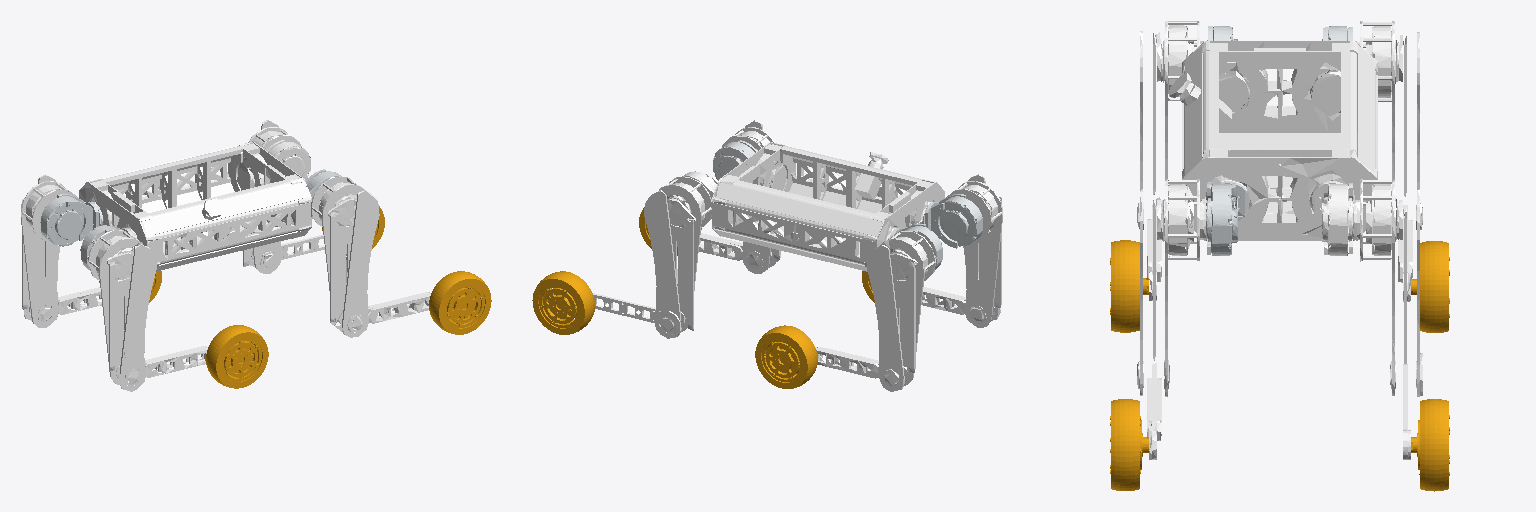
--- Render facts (derived) ---
Views: 3 orthographic renders of the robot side by side, from view 1: azimuth 30°, elevation 25°; view 2: azimuth 150°, elevation 25°; view 3: azimuth 270°, elevation 25°.
Model dog with 17 links and 16 joints (12 revolute, 4 continuous), rooted at body_link, posed every joint at zero.
Visible links, largest first — view 1: body_link, rf_link2, rb_link2, lb_link2, rf_link4, rb_link4, lb_link1, lf_link2, rf_link3, rb_link3, lf_link1, lb_link3 (+2 smaller); view 2: body_link, lf_link2, lb_link2, rb_link2, lb_link4, lf_link4, rb_link1, rf_link2, lb_link3, rf_link1, rb_link3, rf_link3 (+2 smaller); view 3: body_link, lf_link2, rf_link2, lb_link2, rb_link2, rf_link4, lf_link4, rb_link4, lb_link4, lf_link1, rf_link1, rf_link3 (+3 smaller).
Link boxes in pixels (x1,y1,x2,y2): body_link: [79, 141, 311, 271]; rf_link2: [312, 177, 379, 337]; rb_link2: [88, 230, 156, 391]; lb_link2: [21, 174, 77, 327]; rf_link4: [429, 271, 491, 334]; rb_link4: [206, 325, 268, 388]; lb_link1: [40, 194, 98, 246]; lf_link2: [243, 120, 301, 273]; rf_link3: [352, 292, 430, 323]; rb_link3: [145, 346, 208, 377]; lf_link1: [266, 140, 310, 180]; lb_link3: [58, 287, 101, 314]; body_link: [712, 142, 944, 271]; lf_link2: [644, 177, 711, 338]; lb_link2: [867, 231, 935, 391]; rb_link2: [946, 174, 1002, 327]; lb_link4: [755, 325, 817, 388]; lf_link4: [532, 271, 594, 334]; rb_link1: [925, 194, 982, 248]; rf_link2: [722, 120, 780, 273]; lb_link3: [815, 347, 894, 378]; rf_link1: [713, 140, 757, 180]; rb_link3: [922, 287, 965, 314]; rf_link3: [699, 233, 760, 262]; body_link: [1169, 41, 1377, 240]; lf_link2: [1354, 179, 1422, 396]; rf_link2: [1137, 179, 1205, 396]; lb_link2: [1355, 21, 1422, 229]; rb_link2: [1137, 21, 1204, 229]; rf_link4: [1110, 399, 1148, 490]; lf_link4: [1411, 399, 1449, 491]; rb_link4: [1110, 240, 1148, 332]; lb_link4: [1411, 241, 1449, 332]; lf_link1: [1315, 181, 1353, 255]; rf_link1: [1206, 181, 1244, 255]; rf_link3: [1147, 363, 1161, 459].
Bounding box of the posed robot: 0.8464 × 0.4576 × 0.3715 m (x, y, z).
17 mesh visuals loaded from 17 distinct referenced files (17 binary STL).

robot.urdf — dog:
<?xml version="1.0" encoding="utf-8"?>
<!-- This URDF was automatically created by SolidWorks to URDF Exporter! Originally created by Stephen Brawner ([email redacted]) 
     Commit Version: 1.6.0-4-g7f85cfe  Build Version: 1.6.7995.38578
     For more information, please see http://wiki.ros.org/sw_urdf_exporter -->
<robot
  name="dog">

    <ros2_control name="dog_system" type="system">

          <hardware>
              <plugin>mujoco_ros2_control/MujocoSystem</plugin>
          </hardware>

          <joint name="lf_joint1">
              <!-- <command_interface name="position" />
              <command_interface name="velocity" /> -->
              <command_interface name="effort" />
              <state_interface name="position" />
              <state_interface name="velocity" />
              <state_interface name="effort" />
          </joint>

          <joint name="lf_joint2">
              <!-- <command_interface name="position" />
              <command_interface name="velocity" /> -->
              <command_interface name="effort" />
              <state_interface name="position" />
              <state_interface name="velocity" />
              <state_interface name="effort" />
          </joint>

          <joint name="lf_joint3">
              <!-- <command_interface name="position" />
              <command_interface name="velocity" /> -->
              <command_interface name="effort" />
              <state_interface name="position" />
              <state_interface name="velocity" />
              <state_interface name="effort" />
          </joint>

          <joint name="lf_joint4">
              <!-- <command_interface name="position" />
              <command_interface name="velocity" /> -->
              <command_interface name="effort" />
              <state_interface name="position" />
              <state_interface name="velocity" />
              <state_interface name="effort" />
          </joint>

          <joint name="rf_joint1">
              <!-- <command_interface name="position" />
              <command_interface name="velocity" /> -->
              <command_interface name="effort" />
              <state_interface name="position" />
              <state_interface name="velocity" />
              <state_interface name="effort" />
          </joint>

          <joint name="rf_joint2">
              <!-- <command_interface name="position" />
              <command_interface name="velocity" /> -->
              <command_interface name="effort" />
              <state_interface name="position" />
              <state_interface name="velocity" />
              <state_interface name="effort" />
          </joint>

          <joint name="rf_joint3">
              <!-- <command_interface name="position" />
              <command_interface name="velocity" /> -->
              <command_interface name="effort" />
              <state_interface name="position" />
              <state_interface name="velocity" />
              <state_interface name="effort" />
          </joint>

          <joint name="rf_joint4">
              <!-- <command_interface name="position" />
              <command_interface name="velocity" /> -->
              <command_interface name="effort" />
              <state_interface name="position" />
              <state_interface name="velocity" />
              <state_interface name="effort" />
          </joint>

          <joint name="lb_joint1">
              <!-- <command_interface name="position" />
              <command_interface name="velocity" /> -->
              <command_interface name="effort" />
              <state_interface name="position" />
              <state_interface name="velocity" />
              <state_interface name="effort" />
          </joint>

          <joint name="lb_joint2">
              <!-- <command_interface name="position" />
              <command_interface name="velocity" /> -->
              <command_interface name="effort" />
              <state_interface name="position" />
              <state_interface name="velocity" />
              <state_interface name="effort" />
          </joint>

          <joint name="lb_joint3">
              <!-- <command_interface name="position" />
              <command_interface name="velocity" /> -->
              <command_interface name="effort" />
              <state_interface name="position" />
              <state_interface name="velocity" />
              <state_interface name="effort" />
          </joint>

          <joint name="lb_joint4">
              <!-- <command_interface name="position" />
              <command_interface name="velocity" /> -->
              <command_interface name="effort" />
              <state_interface name="position" />
              <state_interface name="velocity" />
              <state_interface name="effort" />
          </joint>          

          <joint name="rb_joint1">
              <!-- <command_interface name="position" />
              <command_interface name="velocity" /> -->
              <command_interface name="effort" />
              <state_interface name="position" />
              <state_interface name="velocity" />
              <state_interface name="effort" />
          </joint>

          <joint name="rb_joint2">
              <!-- <command_interface name="position" />
              <command_interface name="velocity" /> -->
              <command_interface name="effort" />
              <state_interface name="position" />
              <state_interface name="velocity" />
              <state_interface name="effort" />
          </joint>

          <joint name="rb_joint3">
              <!-- <command_interface name="position" />
              <command_interface name="velocity" /> -->
              <command_interface name="effort" />
              <state_interface name="position" />
              <state_interface name="velocity" />
              <state_interface name="effort" />
          </joint>

          <joint name="rb_joint4">
              <!-- <command_interface name="position" />
              <command_interface name="velocity" /> -->
              <command_interface name="effort" />
              <state_interface name="position" />
              <state_interface name="velocity" />
              <state_interface name="effort" />
          </joint>

      </ros2_control>

      
  <link
    name="body_link">
    <inertial>
      <origin
        xyz="-0.0013088 -0.0021597 0.057384"
        rpy="0 0 0" />
      <mass
        value="3.1484" />
      <inertia
        ixx="0.0061326"
        ixy="-5.3318E-07"
        ixz="5.6918E-06"
        iyy="0.011662"
        iyz="1.8421E-05"
        izz="0.012462" />
    </inertial>
    <visual>
      <origin
        xyz="0 0 0"
        rpy="0 0 0" />
      <geometry>
        <mesh
          filename="package://dog/model/body_link.STL" />
      </geometry>
      <material
        name="">
        <color
          rgba="1 1 1 1" />
      </material>
    </visual>
    <collision>
      <origin
        xyz="0 0 0"
        rpy="0 0 0" />
      <geometry>
        <mesh
          filename="package://dog/model/body_link.STL" />
      </geometry>
    </collision>
  </link>
  <link
    name="lf_link1">
    <inertial>
      <origin
        xyz="0.00086233 0.0088226 0.044423"
        rpy="0 0 0" />
      <mass
        value="0.30526" />
      <inertia
        ixx="0.00013624"
        ixy="-2.5173E-08"
        ixz="-6.3132E-06"
        iyy="0.00029454"
        iyz="2.3905E-08"
        izz="0.00018611" />
    </inertial>
    <visual>
      <origin
        xyz="0 0 0"
        rpy="0 0 0" />
      <geometry>
        <mesh
          filename="package://dog/model/lf_link1.STL" />
      </geometry>
      <material
        name="">
        <color
          rgba="1 1 1 1" />
      </material>
    </visual>
    <collision>
      <origin
        xyz="0 0 0"
        rpy="0 0 0" />
      <geometry>
        <mesh
          filename="package://dog/model/lf_link1.STL" />
      </geometry>
    </collision>
  </link>
  <joint
    name="lf_joint1"
    type="revolute">
    <origin
      xyz="0.1916 0.069987 0.061999"
      rpy="0 1.5708 0" />
    <parent
      link="body_link" />
    <child
      link="lf_link1" />
    <axis
      xyz="0 0 1" />
    <limit
      lower="-3"
      upper="3"
      effort="20"
      velocity="16" />
  </joint>
  <link
    name="lf_link2">
    <inertial>
      <origin
        xyz="0.0641608072634881 -0.000213553947429029 0.0509564436912867"
        rpy="0 0 0" />
      <mass
        value="0.687935058013005" />
      <inertia
        ixx="0.000317590386612217"
        ixy="-9.76394662000511E-05"
        ixz="8.0003594791554E-08"
        iyy="0.00198715365354993"
        iyz="2.8040517395904E-08"
        izz="0.0022786341424536" />
    </inertial>
    <visual>
      <origin
        xyz="0 0 0"
        rpy="0 0 0" />
      <geometry>
        <mesh
          filename="package://dog/model/lf_link2.STL" />
      </geometry>
      <material
        name="">
        <color
          rgba="1 1 1 1" />
      </material>
    </visual>
    <collision>
      <origin
        xyz="0 0 0"
        rpy="0 0 0" />
      <geometry>
        <mesh
          filename="package://dog/model/lf_link2.STL" />
      </geometry>
    </collision>
  </link>
  <joint
    name="lf_joint2"
    type="revolute">
    <origin
      xyz="0 0.029313 0.060013"
      rpy="-1.5708 0.0 0" />
    <parent
      link="lf_link1" />
    <child
      link="lf_link2" />
    <axis
      xyz="0 0 1" />
    <limit
      lower="-3"
      upper="3"
      effort="20"
      velocity="16" />
  </joint>
  <link
    name="lf_link3">
    <inertial>
      <origin
        xyz="0.115134661134155 5.41233724504764E-15 -0.0232451722203951"
        rpy="0 0 0" />
      <mass
        value="0.0715412570113012" />
      <inertia
        ixx="7.16038100959811E-06"
        ixy="1.80841534238793E-19"
        ixz="-8.96042910486513E-22"
        iyy="0.000396266502546904"
        iyz="-2.5977821807318E-21"
        izz="0.000403009789814217" />
    </inertial>
    <visual>
      <origin
        xyz="0 0 0"
        rpy="0 0 0" />
      <geometry>
        <mesh
          filename="package://dog/model/lf_link3.STL" />
      </geometry>
      <material
        name="">
        <color
          rgba="1 1 1 1" />
      </material>
    </visual>
    <collision>
      <origin
        xyz="0 0 0"
        rpy="0 0 0" />
      <geometry>
        <mesh
          filename="package://dog/model/lf_link3.STL" />
      </geometry>
    </collision>
  </link>
  <joint
    name="lf_joint3"
    type="revolute">
    <origin
      xyz="0.23001 0 0.0935"
      rpy="0 0 -1.570796325" />
    <parent
      link="lf_link2" />
    <child
      link="lf_link3" />
    <axis
      xyz="0 0 1" />
    <limit
      lower="-3"
      upper="3"
      effort="20"
      velocity="16" />
  </joint>
  <link
    name="lf_link4">
    <inertial>
      <origin
        xyz="-8.33838005240284E-07 -2.32183281578813E-06 -0.0137203038152375"
        rpy="0 0 0" />
      <mass
        value="0.392667576355367" />
      <inertia
        ixx="0.000427673279684473"
        ixy="-1.66712102324832E-10"
        ixz="-7.83183418259463E-09"
        iyy="0.000427672875183246"
        iyz="-2.18931520058451E-08"
        izz="0.000777284873782633" />
    </inertial>
    <visual>
      <origin
        xyz="0 0 0"
        rpy="0 0 0" />
      <geometry>
        <mesh
          filename="package://dog/model/lf_link4.STL" />
      </geometry>
      <material
        name="">
        <color
          rgba="0.941176470588235 0.674509803921569 0.117647058823529 1" />
      </material>
    </visual>
    <collision>
      <origin
        xyz="0 0 0"
        rpy="0 0 0" />
      <geometry>
        <mesh
          filename="package://dog/model/lf_link4.STL" />
      </geometry>
    </collision>
  </link>
  <joint
    name="lf_joint4"
    type="continuous">
    <origin
      xyz="0.225 0 0.028"
      rpy="0 0 0" />
    <parent
      link="lf_link3" />
    <child
      link="lf_link4" />
    <axis
      xyz="0 0 1" />
  </joint>
  <link
    name="lb_link1">
    <inertial>
      <origin
        xyz="-0.000925123690143068 -0.00878237479301745 0.0445470021451263"
        rpy="0 0 0" />
      <mass
        value="0.305258513351169" />
      <inertia
        ixx="0.000136281253269724"
        ixy="2.58521394761113E-06"
        ixz="6.31297933943952E-06"
        iyy="0.000294496916566844"
        iyz="-6.473990898193E-08"
        izz="0.000186109185435469" />
    </inertial>
    <visual>
      <origin
        xyz="0 0 0"
        rpy="0 0 0" />
      <geometry>
        <mesh
          filename="package://dog/model/lb_link1.STL" />
      </geometry>
      <material
        name="">
        <color
          rgba="0.898039215686275 0.917647058823529 0.929411764705882 1" />
      </material>
    </visual>
    <collision>
      <origin
        xyz="0 0 0"
        rpy="0 0 0" />
      <geometry>
        <mesh
          filename="package://dog/model/lb_link1.STL" />
      </geometry>
    </collision>
  </link>
  <joint
    name="lb_joint1"
    type="revolute">
    <origin
      xyz="-0.1916 0.070013 0.061999"
      rpy="3.1416 1.5708 0" />
    <parent
      link="body_link" />
    <child
      link="lb_link1" />
    <axis
      xyz="0 0 1" />
    <limit
      lower="-3"
      upper="3"
      effort="20"
      velocity="16" />
  </joint>
  <link
    name="lb_link2">
    <inertial>
      <origin
        xyz="0.0622918006217383 -0.000224917744286179 0.0506213294063391"
        rpy="0 0 0" />
      <mass
        value="0.682338727568128" />
      <inertia
        ixx="0.000315574203624537"
        ixy="-9.67077846440039E-05"
        ixz="3.09385643315563E-08"
        iyy="0.00198560386964907"
        iyz="-3.30548671246196E-08"
        izz="0.00227507943112639" />
    </inertial>
    <visual>
      <origin
        xyz="0 0 0"
        rpy="0 0 0" />
      <geometry>
        <mesh
          filename="package://dog/model/lb_link2.STL" />
      </geometry>
      <material
        name="">
        <color
          rgba="1 1 1 1" />
      </material>
    </visual>
    <collision>
      <origin
        xyz="0 0 0"
        rpy="0 0 0" />
      <geometry>
        <mesh
          filename="package://dog/model/lb_link2.STL" />
      </geometry>
    </collision>
  </link>
  <joint
    name="lb_joint2"
    type="revolute">
    <origin
      xyz="-0.00047387 -0.029283 0.059987"
      rpy="1.5708 0.0 0.0" />
    <parent
      link="lb_link1" />
    <child
      link="lb_link2" />
    <axis
      xyz="0 0 1" />
    <limit
      lower="-3"
      upper="3"
      effort="20"
      velocity="16" />
  </joint>
  <link
    name="lb_link3">
    <inertial>
      <origin
        xyz="0.112998107353804 -1.99285032920216E-13 -0.0233570602524557"
        rpy="0 0 0" />
      <mass
        value="0.127541149243291" />
      <inertia
        ixx="1.2488110467128E-05"
        ixy="1.36246138950449E-15"
        ixz="-1.00217452304004E-19"
        iyy="0.000516959786484769"
        iyz="5.25247343008731E-22"
        izz="0.000528884581268784" />
    </inertial>
    <visual>
      <origin
        xyz="0 0 0"
        rpy="0 0 0" />
      <geometry>
        <mesh
          filename="package://dog/model/lb_link3.STL" />
      </geometry>
      <material
        name="">
        <color
          rgba="1 1 1 1" />
      </material>
    </visual>
    <collision>
      <origin
        xyz="0 0 0"
        rpy="0 0 0" />
      <geometry>
        <mesh
          filename="package://dog/model/lb_link3.STL" />
      </geometry>
    </collision>
  </link>
  <joint
    name="lb_joint3"
    type="revolute">
    <origin
      xyz="0.23001 1.0811E-05 0.0935"
      rpy="0 0 -1.570796325" />
    <parent
      link="lb_link2" />
    <child
      link="lb_link3" />
    <axis
      xyz="0 0 1" />
    <limit
      lower="-3"
      upper="3"
      effort="20"
      velocity="16" />
  </joint>
  <link
    name="lb_link4">
    <inertial>
      <origin
        xyz="1.20293801159077E-06 -1.88941982487423E-06 -0.0136284016701863"
        rpy="0 0 0" />
      <mass
        value="0.432627590726504" />
      <inertia
        ixx="0.00046007201510914"
        ixy="2.3740721997431E-10"
        ixz="1.25243064310545E-08"
        iyy="0.000460071794040396"
        iyz="-1.95870126671016E-08"
        izz="0.000837967081504535" />
    </inertial>
    <visual>
      <origin
        xyz="0 0 0"
        rpy="0 0 0" />
      <geometry>
        <mesh
          filename="package://dog/model/lb_link4.STL" />
      </geometry>
      <material
        name="">
        <color
          rgba="0.941176470588235 0.674509803921569 0.117647058823529 1" />
      </material>
    </visual>
    <collision>
      <origin
        xyz="0 0 0"
        rpy="0 0 0" />
      <geometry>
        <mesh
          filename="package://dog/model/lb_link4.STL" />
      </geometry>
    </collision>
  </link>
  <joint
    name="lb_joint4"
    type="continuous">
    <origin
      xyz="0.225 0 0.028"
      rpy="0 0 0" />
    <parent
      link="lb_link3" />
    <child
      link="lb_link4" />
    <axis
      xyz="0 0 1" />
  </joint>
  <link
    name="rf_link1">
    <inertial>
      <origin
        xyz="-0.000782753636641487 -0.00879617351706156 0.0445470017446512"
        rpy="0 0 0" />
      <mass
        value="0.305258520879218" />
      <inertia
        ixx="0.000136239016447643"
        ixy="2.53952144735988E-08"
        ixz="6.3132157394484E-06"
        iyy="0.000294539128219851"
        iyz="3.73658658400529E-08"
        izz="0.000186109181361629" />
    </inertial>
    <visual>
      <origin
        xyz="0 0 0"
        rpy="0 0 0" />
      <geometry>
        <mesh
          filename="package://dog/model/rf_link1.STL" />
      </geometry>
      <material
        name="">
        <color
          rgba="0.898039215686275 0.917647058823529 0.929411764705882 1" />
      </material>
    </visual>
    <collision>
      <origin
        xyz="0 0 0"
        rpy="0 0 0" />
      <geometry>
        <mesh
          filename="package://dog/model/rf_link1.STL" />
      </geometry>
    </collision>
  </link>
  <joint
    name="rf_joint1"
    type="revolute">
    <origin
      xyz="0.1916 -0.070013 0.061999"
      rpy="0 1.5708 0" />
    <parent
      link="body_link" />
    <child
      link="rf_link1" />
    <axis
      xyz="0 0 1" />
    <limit
      lower="-3"
      upper="3"
      effort="20"
      velocity="16" />
  </joint>
  <link
    name="rf_link2">
    <inertial>
      <origin
        xyz="0.0624596798661314 0.000179393203615097 0.0506213295164145"
        rpy="0 0 0" />
      <mass
        value="0.682338731946651" />
      <inertia
        ixx="0.000315805866800134"
        ixy="9.77824407383041E-05"
        ixz="8.08975807843855E-08"
        iyy="0.00198537218399162"
        iyz="3.32365289944369E-08"
        izz="0.00227507940810801" />
    </inertial>
    <visual>
      <origin
        xyz="0 0 0"
        rpy="0 0 0" />
      <geometry>
        <mesh
          filename="package://dog/model/rf_link2.STL" />
      </geometry>
      <material
        name="">
        <color
          rgba="1 1 1 1" />
      </material>
    </visual>
    <collision>
      <origin
        xyz="0 0 0"
        rpy="0 0 0" />
      <geometry>
        <mesh
          filename="package://dog/model/rf_link2.STL" />
      </geometry>
    </collision>
  </link>
  <joint
    name="rf_joint2"
    type="revolute">
    <origin
      xyz="0 -0.029287 0.059987"
      rpy="1.5708 0.0 0" />
    <parent
      link="rf_link1" />
    <child
      link="rf_link2" />
    <axis
      xyz="0 0 1" />
    <limit
      lower="-3"
      upper="3"
      effort="20"
      velocity="16" />
  </joint>
  <link
    name="rf_link3">
    <inertial>
      <origin
        xyz="0.113977852210488 6.0507154842071E-15 -0.0233570602524556"
        rpy="0 0 0" />
      <mass
        value="0.127541149243291" />
      <inertia
        ixx="1.24881104671281E-05"
        ixy="-5.79285832627216E-18"
        ixz="-4.28157943455723E-20"
        iyy="0.000516959786484769"
        iyz="-3.61083627662893E-21"
        izz="0.000528884581268784" />
    </inertial>
    <visual>
      <origin
        xyz="0 0 0"
        rpy="0 0 0" />
      <geometry>
        <mesh
          filename="package://dog/model/rf_link3.STL" />
      </geometry>
      <material
        name="">
        <color
          rgba="1 1 1 1" />
      </material>
    </visual>
    <collision>
      <origin
        xyz="0 0 0"
        rpy="0 0 0" />
      <geometry>
        <mesh
          filename="package://dog/model/rf_link3.STL" />
      </geometry>
    </collision>
  </link>
  <joint
    name="rf_joint3"
    type="revolute">
    <origin
      xyz="0.22999 1.0192E-05 0.0935"
      rpy="0 0 1.570796325" />
    <parent
      link="rf_link2" />
    <child
      link="rf_link3" />
    <axis
      xyz="0 0 1" />
    <limit
      lower="-3"
      upper="3"
      effort="20"
      velocity="16" />
  </joint>
  <link
    name="rf_link4">
    <inertial>
      <origin
        xyz="2.17473220906483E-06 5.36337152023947E-07 -0.0136284014745879"
        rpy="0 0 0" />
      <mass
        value="0.432627569922017" />
      <inertia
        ixx="0.000460071691408482"
        ixy="-1.22108710086107E-10"
        ixz="2.25643101366847E-08"
        iyy="0.000460072155161622"
        iyz="5.6099007528121E-09"
        izz="0.00083796708140874" />
    </inertial>
    <visual>
      <origin
        xyz="0 0 0"
        rpy="0 0 0" />
      <geometry>
        <mesh
          filename="package://dog/model/rf_link4.STL" />
      </geometry>
      <material
        name="">
        <color
          rgba="0.941176470588235 0.674509803921569 0.117647058823529 1" />
      </material>
    </visual>
    <collision>
      <origin
        xyz="0 0 0"
        rpy="0 0 0" />
      <geometry>
        <mesh
          filename="package://dog/model/rf_link4.STL" />
      </geometry>
    </collision>
  </link>
  <joint
    name="rf_joint4"
    type="continuous">
    <origin
      xyz="0.225 0 0.028"
      rpy="0 0 0" />
    <parent
      link="rf_link3" />
    <child
      link="rf_link4" />
    <axis
      xyz="0 0 1" />
  </joint>
  <link
    name="rb_link1">
    <inertial>
      <origin
        xyz="0.000471305086336471 0.00883904276524998 0.0444224277378842"
        rpy="0 0 0" />
      <mass
        value="0.305258497916776" />
      <inertia
        ixx="0.000136553367571207"
        ixy="-7.04693404954443E-06"
        ixz="-6.30800958436009E-06"
        iyy="0.000294224844619598"
        iyz="-2.56429770415964E-07"
        izz="0.000186109191983999" />
    </inertial>
    <visual>
      <origin
        xyz="0 0 0"
        rpy="0 0 0" />
      <geometry>
        <mesh
          filename="package://dog/model/rb_link1.STL" />
      </geometry>
      <material
        name="">
        <color
          rgba="0.898039215686275 0.917647058823529 0.929411764705882 1" />
      </material>
    </visual>
    <collision>
      <origin
        xyz="0 0 0"
        rpy="0 0 0" />
      <geometry>
        <mesh
          filename="package://dog/model/rb_link1.STL" />
      </geometry>
    </collision>
  </link>
  <joint
    name="rb_joint1"
    type="revolute">
    <origin
      xyz="-0.1916 -0.07 0.062"
      rpy="3.1416 1.5708 0" />
    <parent
      link="body_link" />
    <child
      link="rb_link1" />
    <axis
      xyz="0 0 1" />
    <limit
      lower="-3"
      upper="3"
      effort="20"
      velocity="16" />
  </joint>
  <link
    name="rb_link2">
    <inertial>
      <origin
        xyz="0.0622012514705095 0.000257699386625065 0.0506213296568732"
        rpy="0 0 0" />
      <mass
        value="0.682338712671127" />
      <inertia
        ixx="0.000315501454602171"
        ixy="9.7373797528944E-05"
        ixz="8.16375350809813E-08"
        iyy="0.0019856766347927"
        iyz="3.29915770339144E-08"
        izz="0.00227507944798916" />
    </inertial>
    <visual>
      <origin
        xyz="0 0 0"
        rpy="0 0 0" />
      <geometry>
        <mesh
          filename="package://dog/model/rb_link2.STL" />
      </geometry>
      <material
        name="">
        <color
          rgba="1 1 1 1" />
      </material>
    </visual>
    <collision>
      <origin
        xyz="0 0 0"
        rpy="0 0 0" />
      <geometry>
        <mesh
          filename="package://dog/model/rb_link2.STL" />
      </geometry>
    </collision>
  </link>
  <joint
    name="rb_joint2"
    type="revolute">
    <origin
      xyz="-0.001301 0.029271 0.06"
      rpy="-1.5708 0 0" />
    <parent
      link="rb_link1" />
    <child
      link="rb_link2" />
    <axis
      xyz="0 0 1" />
    <limit
      lower="-3"
      upper="3"
      effort="20"
      velocity="16" />
  </joint>
  <link
    name="rb_link3">
    <inertial>
      <origin
        xyz="0.112998107353961 -3.59712259978551E-14 -0.023357060252456"
        rpy="0 0 0" />
      <mass
        value="0.127541149243291" />
      <inertia
        ixx="1.24881104671278E-05"
        ixy="-1.71524171818996E-18"
        ixz="1.28940794602161E-20"
        iyy="0.00051695978648477"
        iyz="-2.71303729328432E-21"
        izz="0.000528884581268785" />
    </inertial>
    <visual>
      <origin
        xyz="0 0 0"
        rpy="0 0 0" />
      <geometry>
        <mesh
          filename="package://dog/model/rb_link3.STL" />
      </geometry>
      <material
        name="">
        <color
          rgba="1 1 1 1" />
      </material>
    </visual>
    <collision>
      <origin
        xyz="0 0 0"
        rpy="0 0 0" />
      <geometry>
        <mesh
          filename="package://dog/model/rb_link3.STL" />
      </geometry>
    </collision>
  </link>
  <joint
    name="rb_joint3"
    type="revolute">
    <origin
      xyz="0.23 0 0.0935"
      rpy="0 0 1.570796325" />
    <parent
      link="rb_link2" />
    <child
      link="rb_link3" />
    <axis
      xyz="0 0 1" />
    <limit
      lower="-3"
      upper="3"
      effort="20"
      velocity="16" />
  </joint>
  <link
    name="rb_link4">
    <inertial>
      <origin
        xyz="1.99351481988685E-08 -2.23938458177031E-06 -0.0136284069014873"
        rpy="0 0 0" />
      <mass
        value="0.432627455975141" />
      <inertia
        ixx="0.00046007217221077"
        ixy="5.06103327672905E-12"
        ixz="2.54278319860044E-10"
        iyy="0.000460071648693004"
        iyz="-2.32421124608998E-08"
        izz="0.000837967081389748" />
    </inertial>
    <visual>
      <origin
        xyz="0 0 0"
        rpy="0 0 0" />
      <geometry>
        <mesh
          filename="package://dog/model/rb_link4.STL" />
      </geometry>
      <material
        name="">
        <color
          rgba="0.941176470588235 0.674509803921569 0.117647058823529 1" />
      </material>
    </visual>
    <collision>
      <origin
        xyz="0 0 0"
        rpy="0 0 0" />
      <geometry>
        <mesh
          filename="package://dog/model/rb_link4.STL" />
      </geometry>
    </collision>
  </link>
  <joint
    name="rb_joint4"
    type="continuous">
    <origin
      xyz="0.225 0 0.028"
      rpy="0 0 0" />
    <parent
      link="rb_link3" />
    <child
      link="rb_link4" />
    <axis
      xyz="0 0 1" />
  </joint>
</robot>
